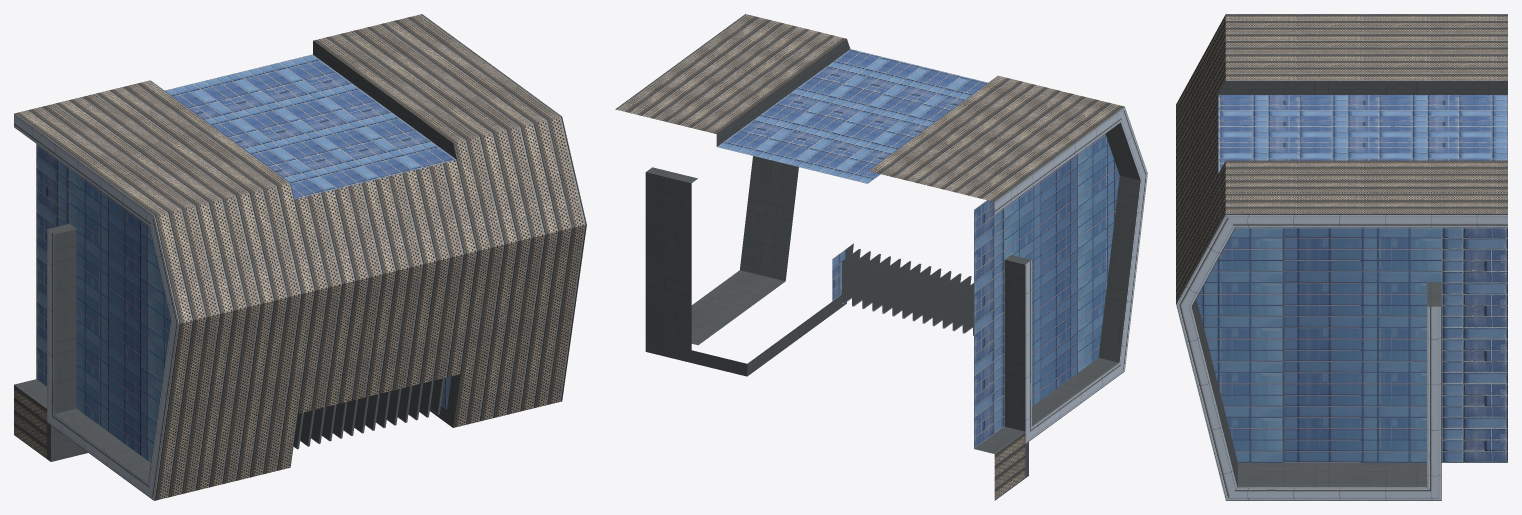
The model's file is sgy_h4.gltf.
3 renders of one model, left to right at view 1: azimuth 30°, elevation 25°; view 2: azimuth 150°, elevation 25°; view 3: azimuth 270°, elevation 25°, orthographic. The views are drawn at different scales.
Parts seen in each view (by area): view 1: 对象016; view 2: 对象016; view 3: 对象016.
Part boxes in pixels (x1=…): 对象016: x1=14, y1=14, x2=586, y2=500; 对象016: x1=615, y1=14, x2=1147, y2=500; 对象016: x1=1176, y1=14, x2=1507, y2=500.
Size of the model in its own units: 46.43 by 34.95 by 32.49.
6 materials, 6 textured.
